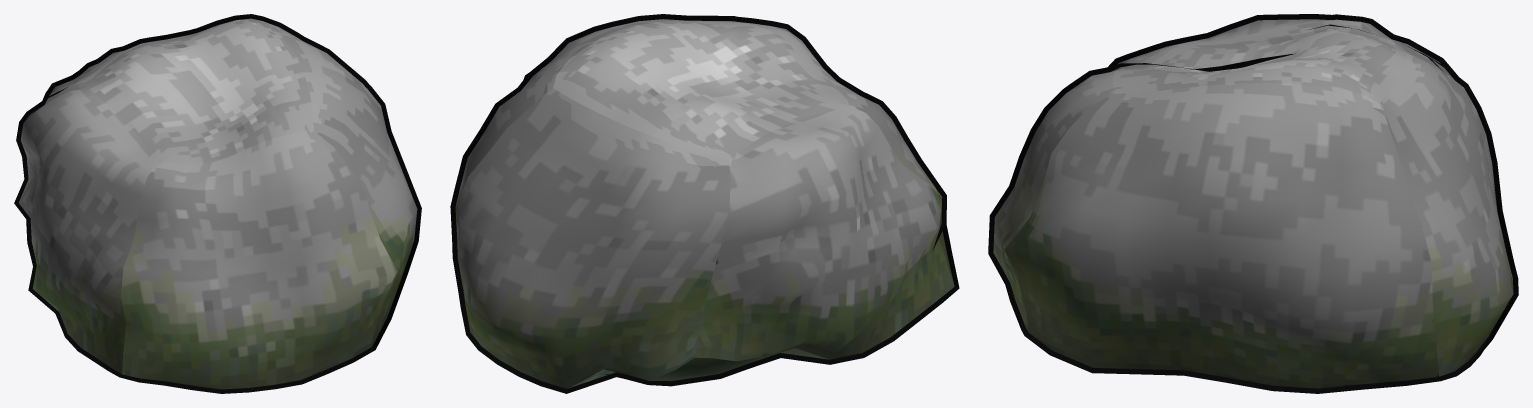
The model's file is stone3 with moss.fbx.
3 views of the same model, side by side, from view 1: azimuth 30°, elevation 25°; view 2: azimuth 150°, elevation 25°; view 3: azimuth 270°, elevation 25° (orthographic). The views are drawn at different scales.
Visible parts, largest first — view 1: Stone3 W Moss, OT Stone3; view 2: Stone3 W Moss, OT Stone3; view 3: Stone3 W Moss, OT Stone3.
Boxes of the visible parts, box(x1,y1,x2,y2) form: Stone3 W Moss: box(19, 18, 417, 389); OT Stone3: box(14, 14, 421, 393); Stone3 W Moss: box(455, 19, 954, 388); OT Stone3: box(450, 14, 959, 393); Stone3 W Moss: box(993, 19, 1513, 388); OT Stone3: box(988, 14, 1518, 393).
Size of the model in its own units: 38.06 by 27.27 by 43.75.
Materials: 2 (1 with a texture image).
